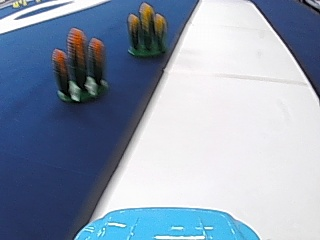corn: (53, 33, 108, 104), (125, 2, 168, 59)
